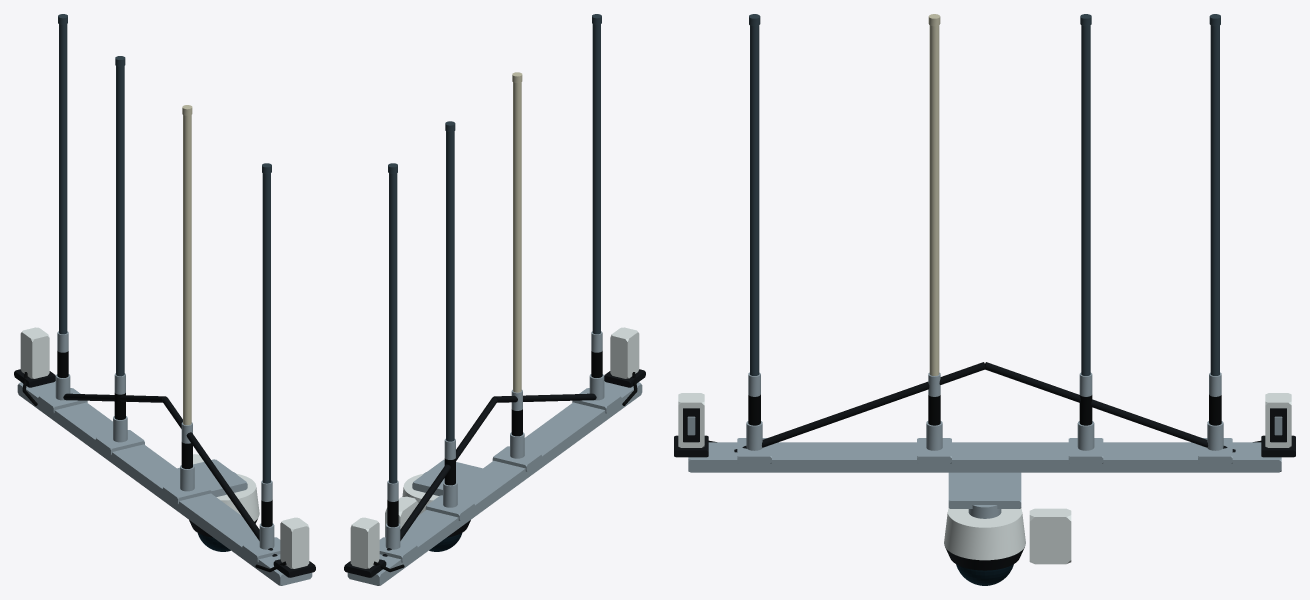
The model's file is antenna.dae.
3 renders of one model, left to right at view 1: azimuth 30°, elevation 25°; view 2: azimuth 150°, elevation 25°; view 3: azimuth 270°, elevation 25°, orthographic. The views are drawn at different scales.
Parts seen in each view (by area): view 1: node0, node5, node6, node4, node3, node1, node2; view 2: node0, node5, node6, node4, node3, node1, node2; view 3: node0, node6, node5, node1, node4, node3, node2.
Part boxes in pixels (x1,y1,x2,y2): node0: [17, 331, 312, 585]; node5: [58, 14, 125, 376]; node6: [20, 327, 309, 568]; node4: [182, 105, 192, 425]; node3: [262, 163, 271, 483]; node1: [14, 369, 315, 577]; node2: [22, 351, 286, 572]; node0: [347, 331, 642, 585]; node5: [388, 121, 455, 483]; node6: [350, 327, 639, 568]; node4: [512, 72, 522, 392]; node3: [592, 14, 601, 334]; node1: [344, 369, 645, 577]; node2: [373, 351, 637, 572]; node0: [687, 372, 1282, 518]; node6: [678, 393, 1291, 564]; node5: [1080, 14, 1220, 375]; node1: [674, 362, 1295, 570]; node4: [928, 14, 940, 375]; node3: [749, 14, 760, 375]; node2: [708, 394, 1261, 442].
Size of the model in its own units: 0.226 by 0.9814 by 0.931.
